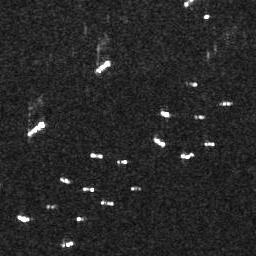ship: (27, 121, 46, 137), (95, 59, 111, 74), (152, 135, 166, 147), (180, 150, 195, 160), (82, 185, 95, 194), (17, 214, 31, 222), (100, 199, 114, 207), (159, 108, 170, 118), (73, 214, 85, 223), (89, 152, 104, 159), (59, 177, 72, 184), (130, 184, 141, 192), (203, 140, 215, 147), (64, 239, 73, 247), (188, 81, 200, 87), (116, 159, 128, 165), (220, 101, 233, 106)
